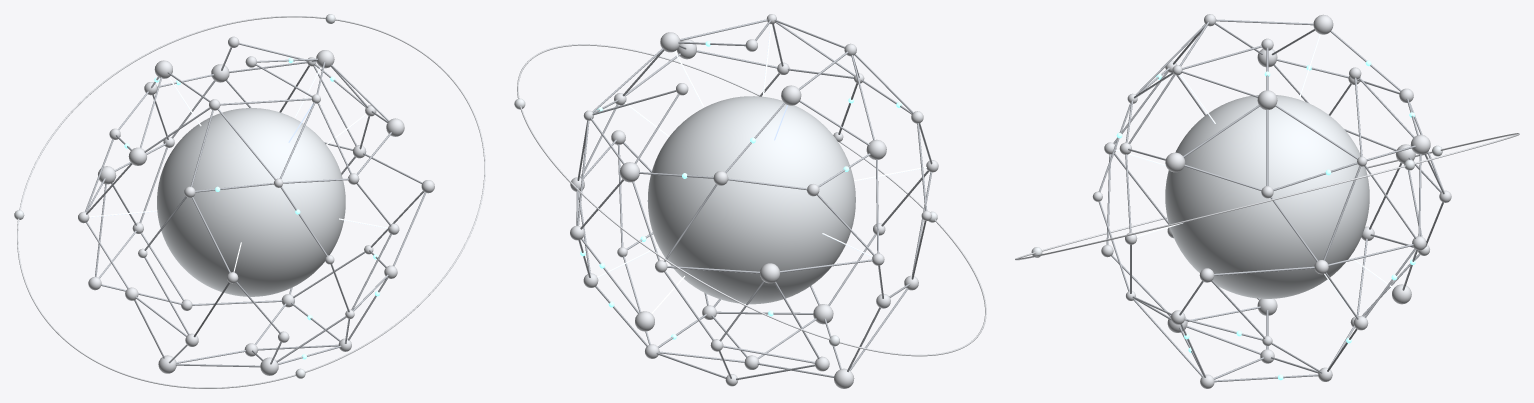
The model's file is hero-neural-core.glb.
3 views of the same model, side by side, from view 1: azimuth 30°, elevation 25°; view 2: azimuth 150°, elevation 25°; view 3: azimuth 270°, elevation 25° (orthographic). The views are drawn at different scales.
Parts seen in each view (by area): view 1: core_glass, lattice_edges, lattice_nodes, orbit_ring, signal_spokes; view 2: core_glass, lattice_edges, lattice_nodes, orbit_ring, signal_spokes; view 3: core_glass, lattice_edges, lattice_nodes, orbit_ring, signal_spokes.
Boxes of the visible parts, x1=… form: core_glass: x1=157, y1=108, x2=345, y2=296; lattice_edges: x1=85, y1=43, x2=426, y2=367; lattice_nodes: x1=78, y1=36, x2=434, y2=375; orbit_ring: x1=17, y1=16, x2=485, y2=388; signal_spokes: x1=89, y1=67, x2=387, y2=272; core_glass: x1=647, y1=96, x2=855, y2=304; lattice_edges: x1=576, y1=19, x2=932, y2=380; lattice_nodes: x1=570, y1=14, x2=938, y2=388; orbit_ring: x1=517, y1=44, x2=986, y2=356; signal_spokes: x1=597, y1=24, x2=926, y2=313; core_glass: x1=1165, y1=95, x2=1369, y2=298; lattice_edges: x1=1098, y1=19, x2=1444, y2=382; lattice_nodes: x1=1092, y1=14, x2=1451, y2=388; orbit_ring: x1=1015, y1=133, x2=1519, y2=260; signal_spokes: x1=1115, y1=34, x2=1393, y2=305.
Bounding box in the file's own units: 2.62 × 1.96 × 2.76.
